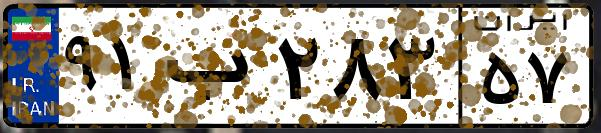1: (110, 28, 158, 98)
2: (270, 28, 330, 110)
3: (385, 28, 445, 110)
5: (475, 38, 525, 113)
7: (525, 38, 570, 115)
8: (330, 28, 385, 110)
9: (57, 26, 110, 100)
ب: (158, 20, 270, 120)
